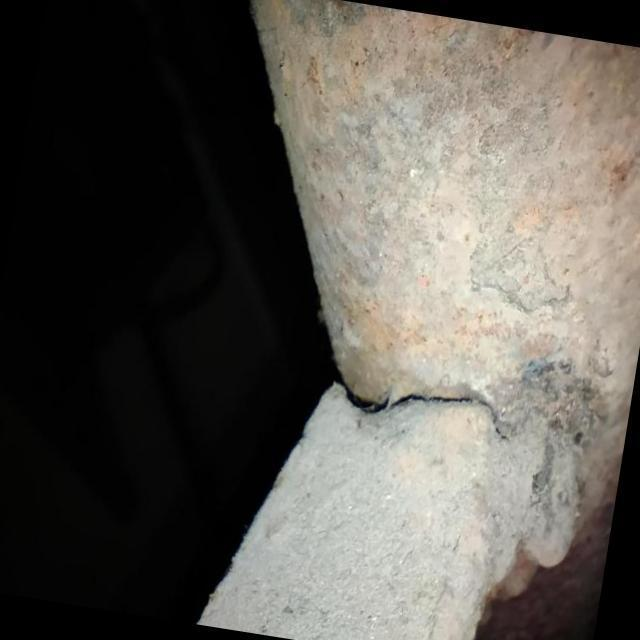defect: (330, 371, 510, 442)
